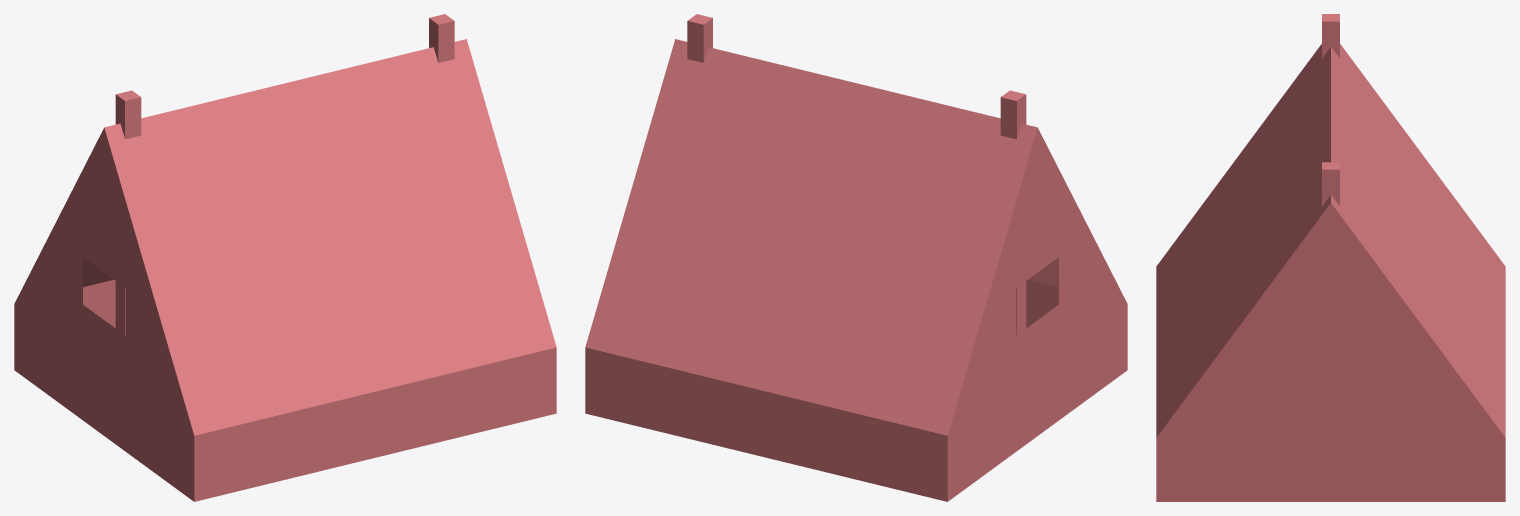
Rendered from tent_smallClosed.fbx.
3 renders of one model, left to right at view 1: azimuth 30°, elevation 25°; view 2: azimuth 150°, elevation 25°; view 3: azimuth 270°, elevation 25°, orthographic. The views are drawn at different scales.
Visible parts, largest first — view 1: tent_smallClosed; view 2: tent_smallClosed; view 3: tent_smallClosed.
Part boxes in pixels (x1=…): tent_smallClosed: x1=14, y1=14, x2=556, y2=501; tent_smallClosed: x1=585, y1=14, x2=1127, y2=501; tent_smallClosed: x1=1156, y1=14, x2=1505, y2=501.
Size of the model in its own units: 191 by 168 by 164.
